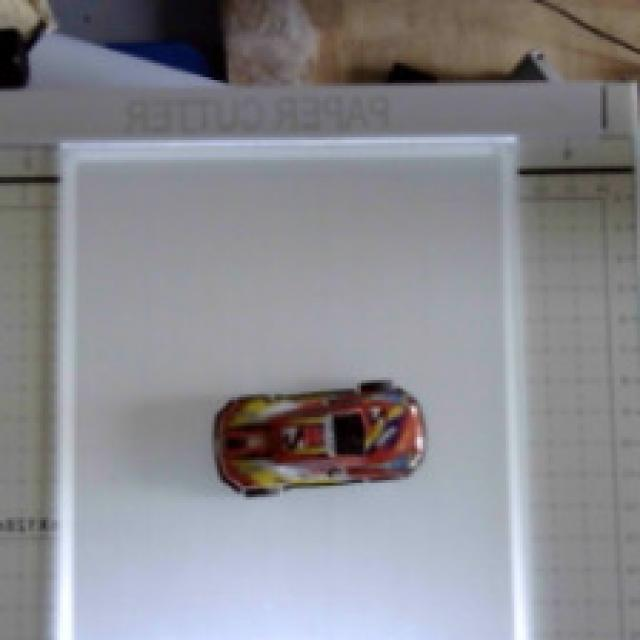Red Car: (188, 346, 448, 559)
